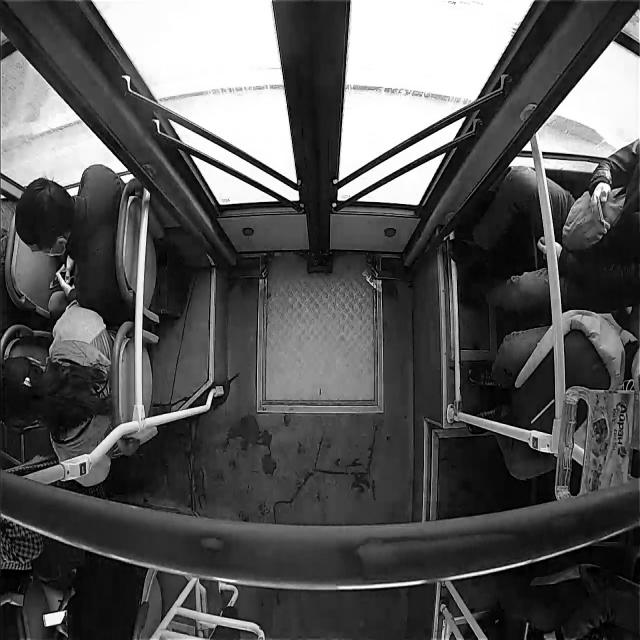bus-door: (2, 0, 638, 270)
